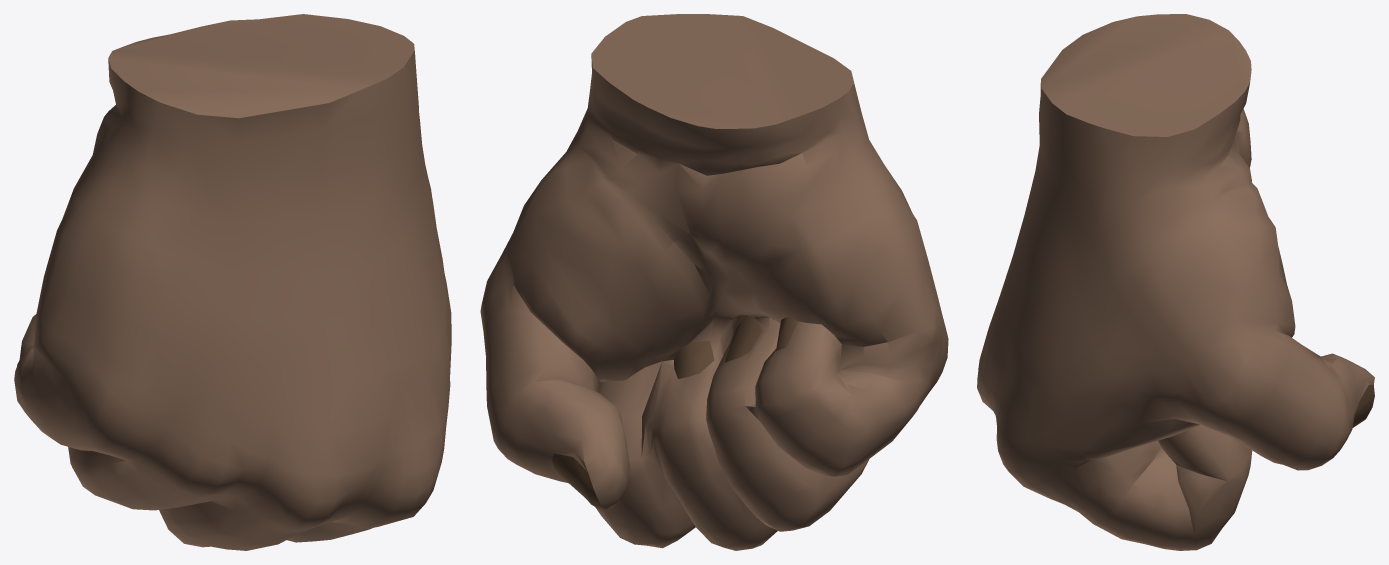
Rendered from fist.fbx.
The picture shows the model from 3 angles, left to right: view 1: azimuth 30°, elevation 25°; view 2: azimuth 150°, elevation 25°; view 3: azimuth 270°, elevation 25°; orthographic projection. The views are drawn at different scales.
Visible parts, largest first — view 1: flesh; view 2: flesh, nails; view 3: flesh, nails.
Part boxes in pixels (bbox=[...]): flesh: bbox=[14, 14, 451, 550]; flesh: bbox=[480, 14, 948, 550]; nails: bbox=[552, 315, 798, 509]; flesh: bbox=[977, 14, 1374, 550]; nails: bbox=[1352, 385, 1374, 427].
Bounding box in the file's own units: 0.1 × 0.114 × 0.091.
